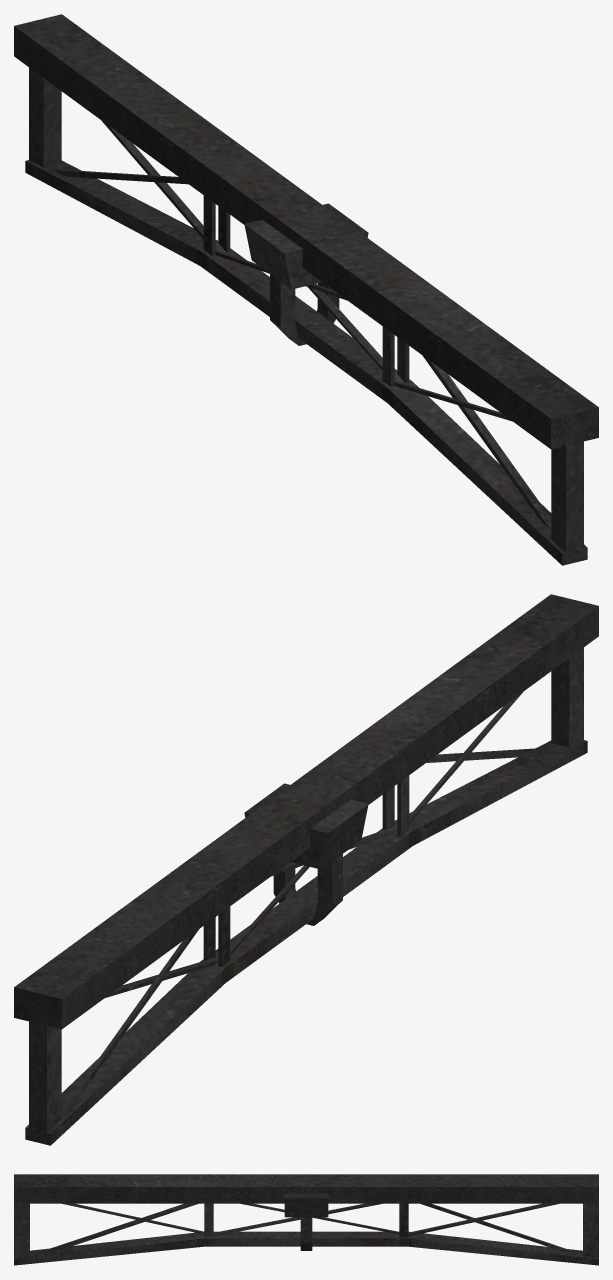
File: steun1.obj
3 renders of one model, top to bottom at view 1: azimuth 30°, elevation 25°; view 2: azimuth 150°, elevation 25°; view 3: azimuth 270°, elevation 25°, orthographic. The views are drawn at different scales.
Parts seen in each view (by area): view 1: Group; view 2: Group; view 3: Group.
Boxes of the visible parts, bbox=[...] form: Group: bbox=[14, 14, 598, 565]; Group: bbox=[14, 594, 598, 1145]; Group: bbox=[14, 1174, 598, 1265].
Size of the model in its own units: 14.43 by 24.47 by 159.
